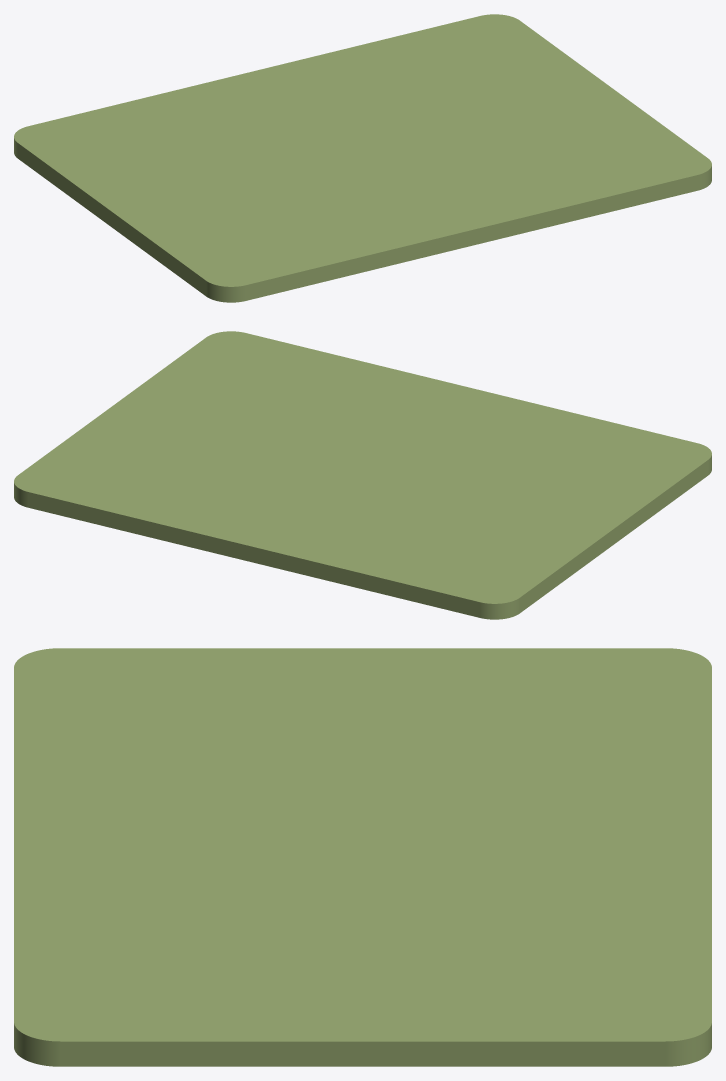
File: sealmat.dae
3 renders of one model, top to bottom at view 1: azimuth 30°, elevation 25°; view 2: azimuth 150°, elevation 25°; view 3: azimuth 270°, elevation 25°, orthographic. The views are drawn at different scales.
Visible parts, largest first — view 1: sealmat; view 2: sealmat; view 3: sealmat.
Part boxes in pixels (box(x1,y1,x2,y2)): sealmat: box(14, 14, 711, 302); sealmat: box(14, 331, 711, 619); sealmat: box(14, 648, 711, 1066).
Bounding box in the file's own units: 0.1 × 0.075 × 0.003.
